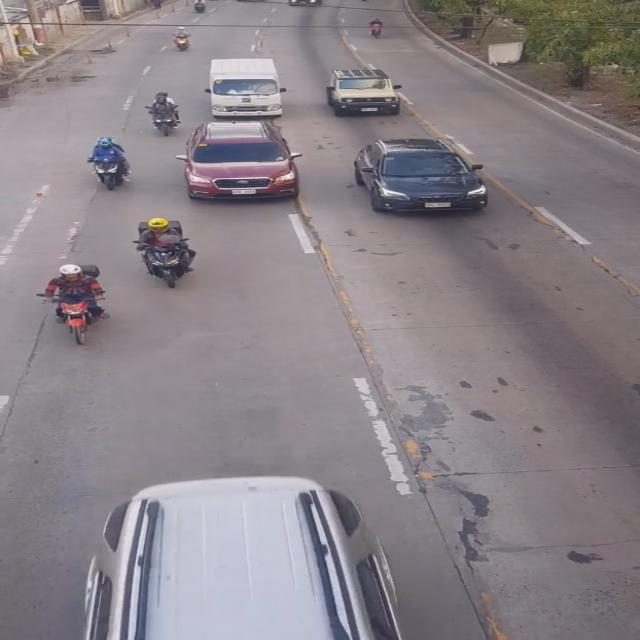car: (80, 483, 402, 640), (354, 137, 490, 218), (183, 122, 301, 204), (328, 67, 403, 117)
motorbike: (45, 261, 103, 340), (141, 216, 198, 293), (82, 138, 130, 192), (148, 90, 183, 139)
truck: (206, 59, 286, 119)
